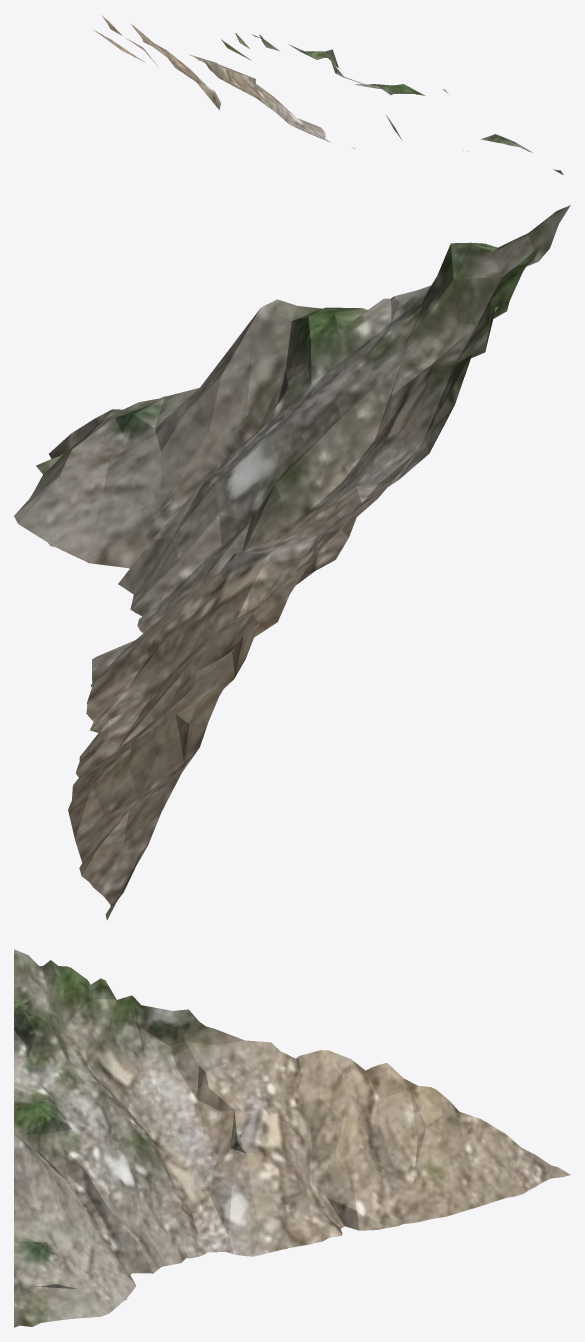
3 renders of one model, top to bottom at view 1: azimuth 30°, elevation 25°; view 2: azimuth 150°, elevation 25°; view 3: azimuth 270°, elevation 25°, orthographic. The views are drawn at different scales.
Bounding box in the file's own units: 3.43 × 2.36 × 5.27.
1 material, 1 textured.
